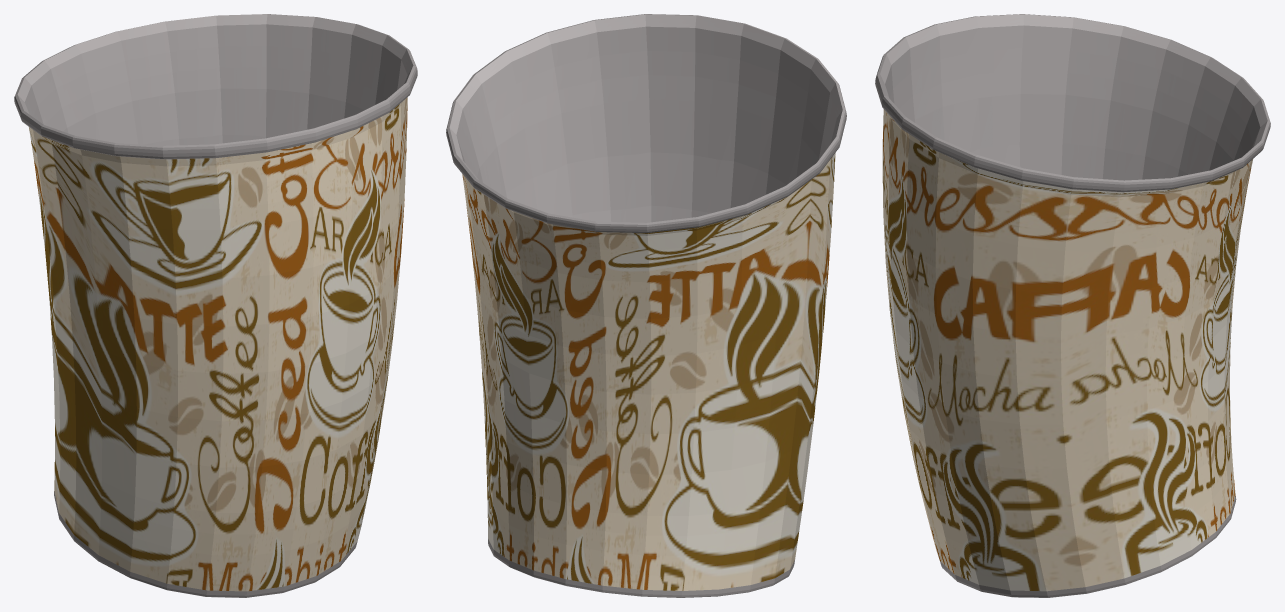
Rendered from bend_low_1.obj.
3 renders of one model, left to right at view 1: azimuth 30°, elevation 25°; view 2: azimuth 150°, elevation 25°; view 3: azimuth 270°, elevation 25°, orthographic.
Visible parts, largest first — view 1: model; view 2: model; view 3: model.
Boxes of the visible parts, box(x1,y1,x2,y2) form: model: box(14, 14, 417, 597); model: box(446, 14, 846, 597); model: box(875, 14, 1270, 597).
Size of the model in its own units: 0.0835 by 0.1107 by 0.0829.
1 material, 1 textured.
